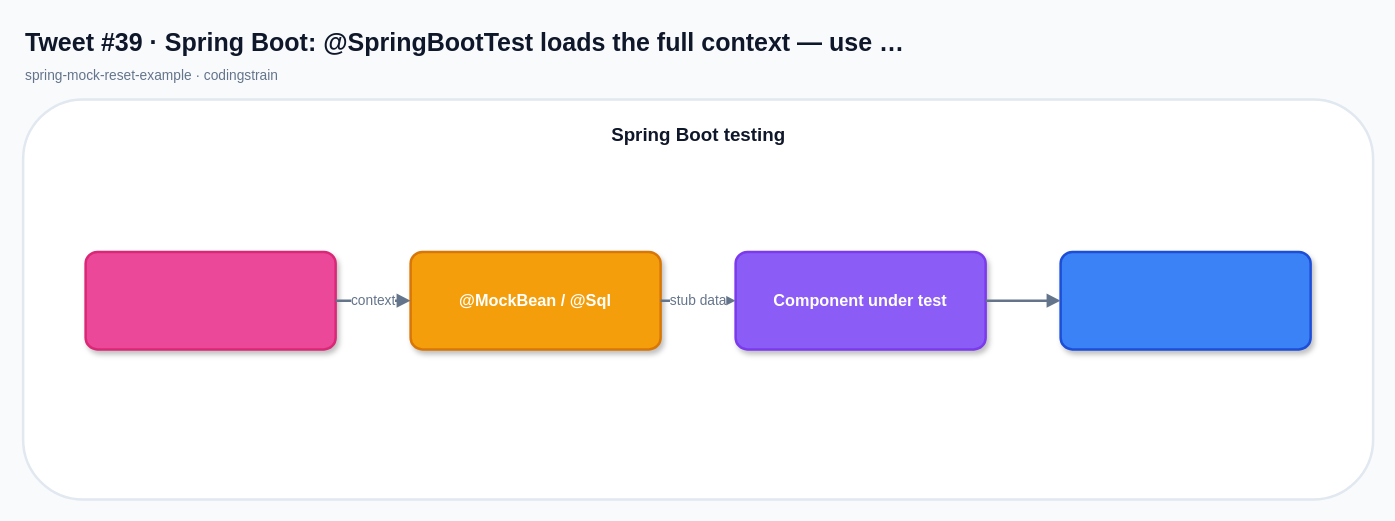
Some shapes in this 1395 by 521 pixel diagram are drawn without their labels. The shapes that lost their labels are listed below. From the top down, each one's centre as x and y in pixels, then its label:
(211,302): @SpringBootTest
(1186,302): Assertions
